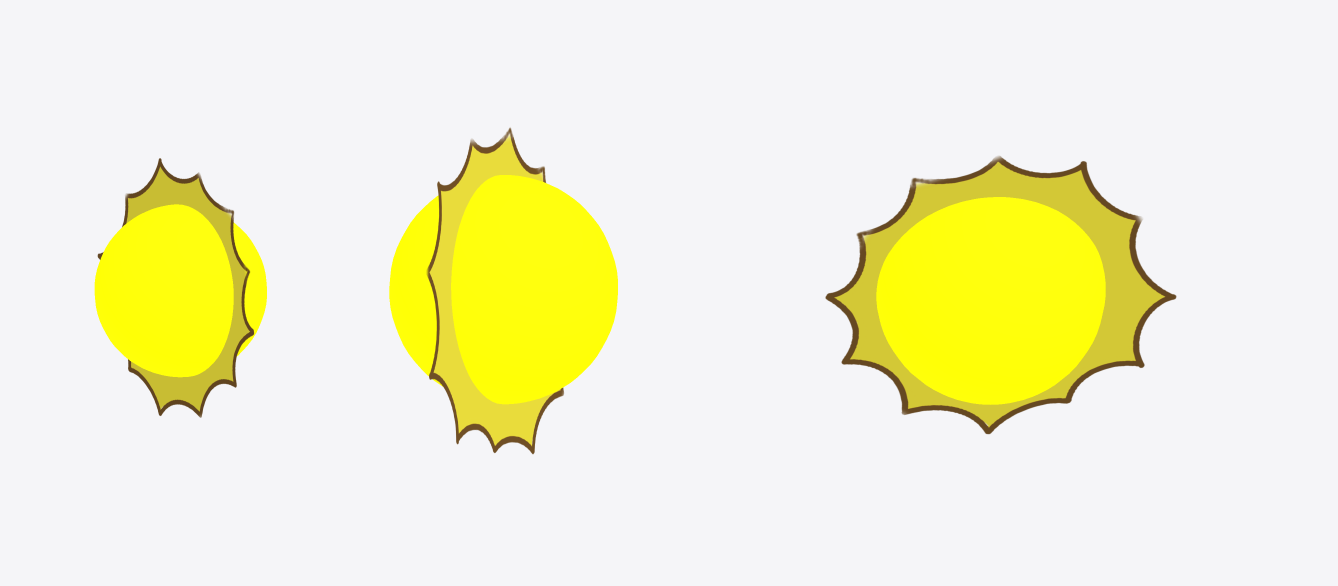
File: soleil.glb
3 views of the same model, side by side, from view 1: azimuth 30°, elevation 25°; view 2: azimuth 150°, elevation 25°; view 3: azimuth 270°, elevation 25° (orthographic). The views are drawn at different scales.
Visible parts, largest first — view 1: Sphere.009, —Pngtree—cute cartoon sun with fried_6461132; view 2: Sphere.009, —Pngtree—cute cartoon sun with fried_6461132; view 3: Sphere.009, —Pngtree—cute cartoon sun with fried_6461132.
Boxes of the visible parts, x1=… form: Sphere.009: x1=94, y1=204, x2=266, y2=377; —Pngtree—cute cartoon sun with fried_6461132: x1=97, y1=158, x2=253, y2=417; Sphere.009: x1=389, y1=175, x2=617, y2=404; —Pngtree—cute cartoon sun with fried_6461132: x1=426, y1=127, x2=563, y2=453; Sphere.009: x1=876, y1=197, x2=1105, y2=404; —Pngtree—cute cartoon sun with fried_6461132: x1=825, y1=156, x2=1176, y2=434.
Size of the model in its own units: 2.91 by 8.35 by 8.4.
Materials: 3 (1 with a texture image).
